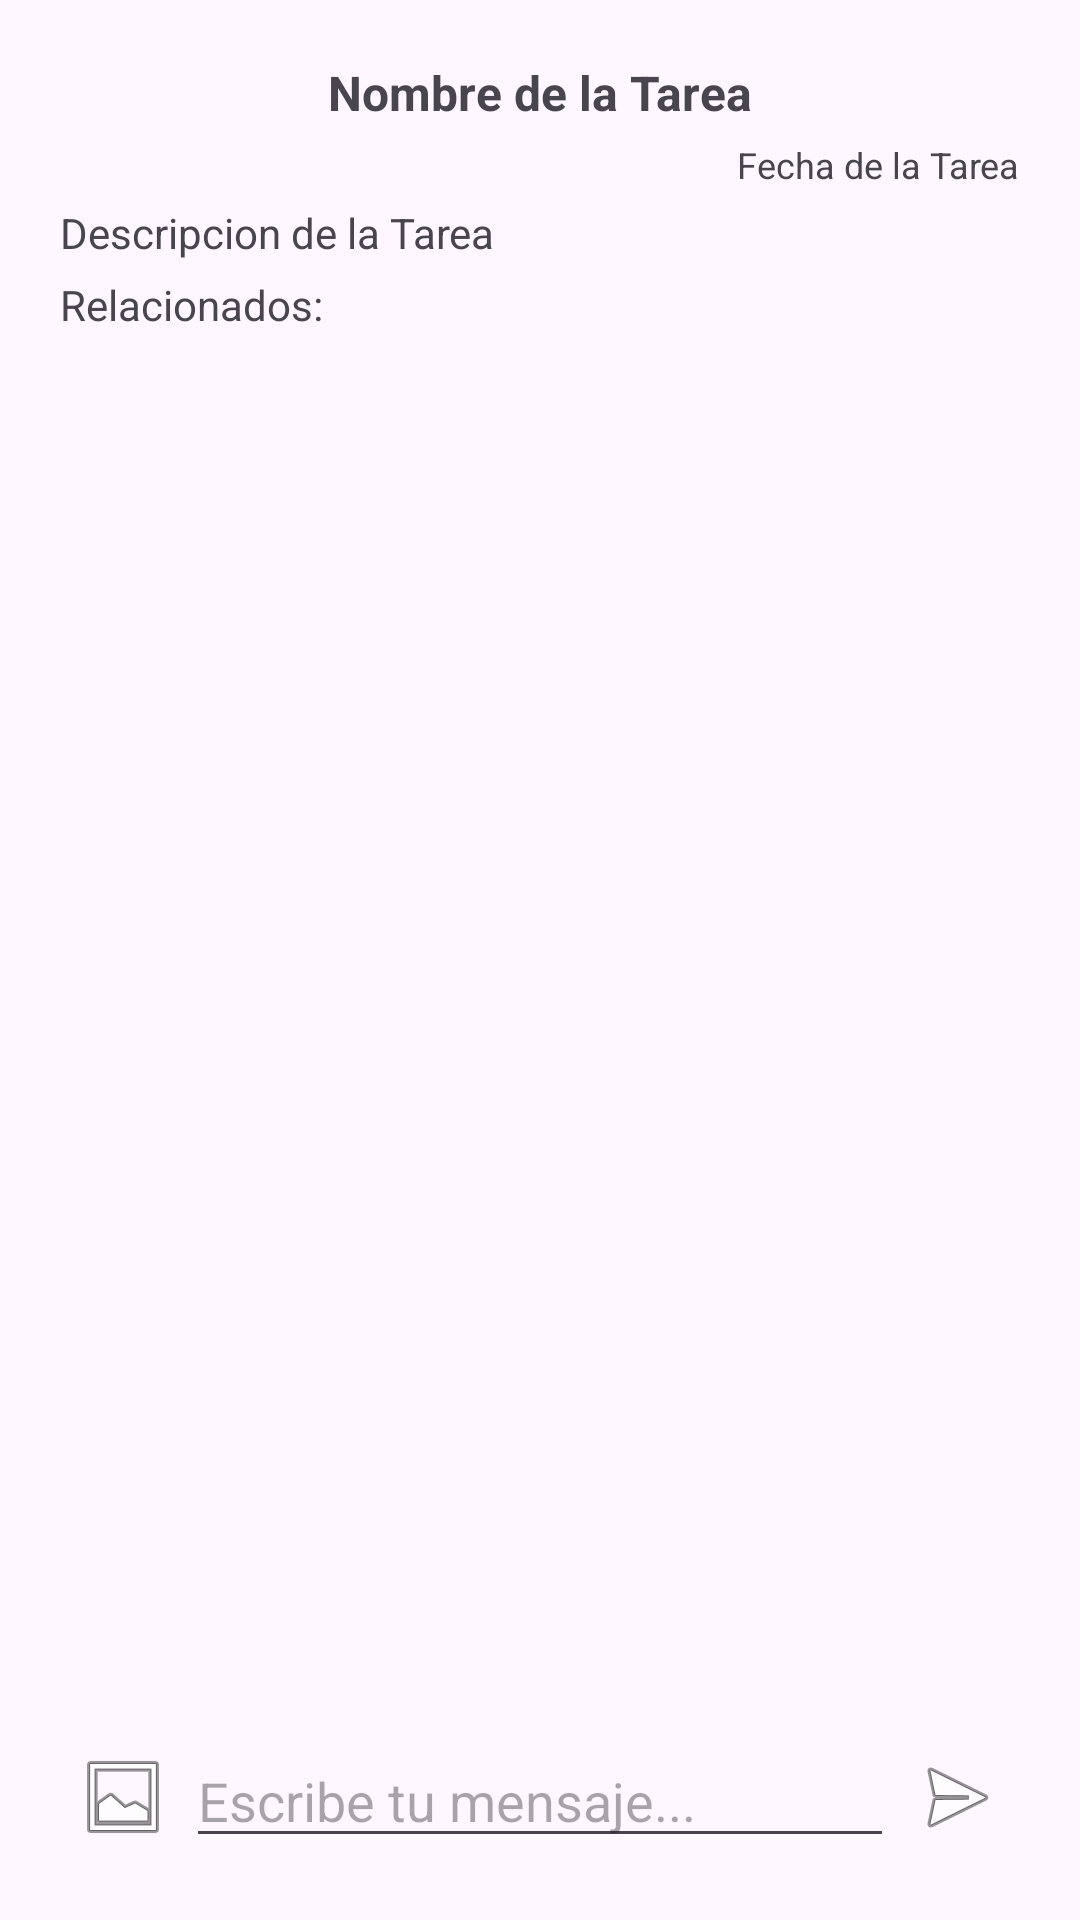

Named icons in this screenshot (1080px×1920px) and their centers, point (x, y):
gallery: point (123, 1797)
send: point (958, 1797)
